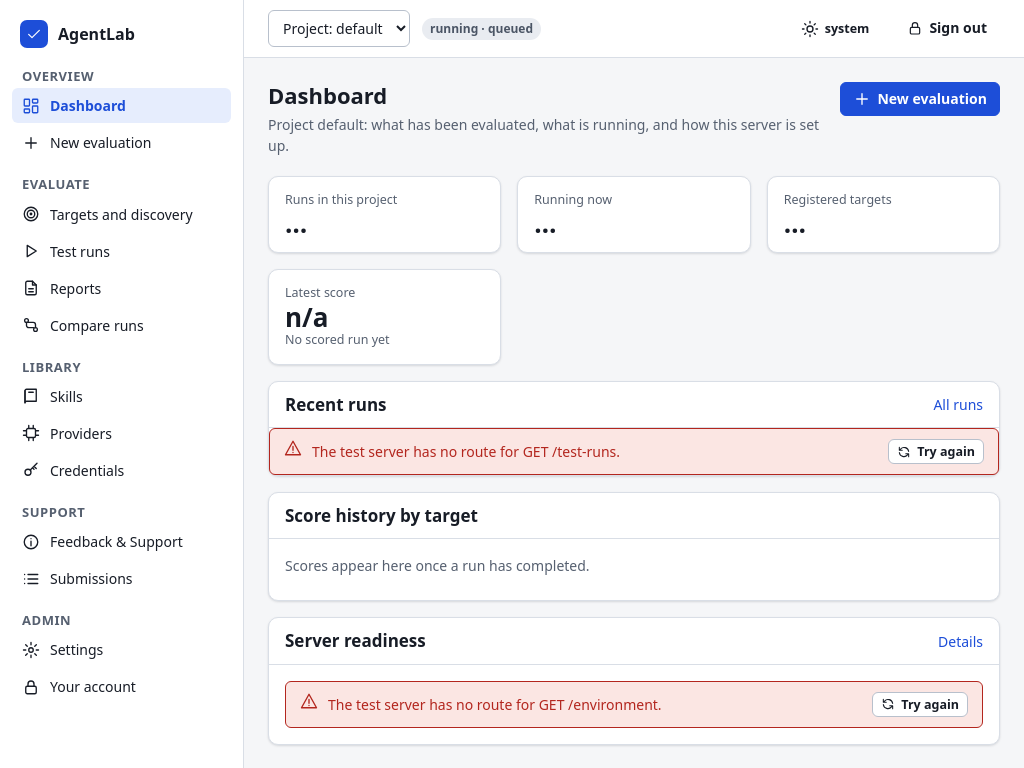
Test case: signing in with a user name and password › ends the session on the server when the person signs out
Step 1. Click the button "Sign out" → (947, 28), box [894, 12, 1000, 45]
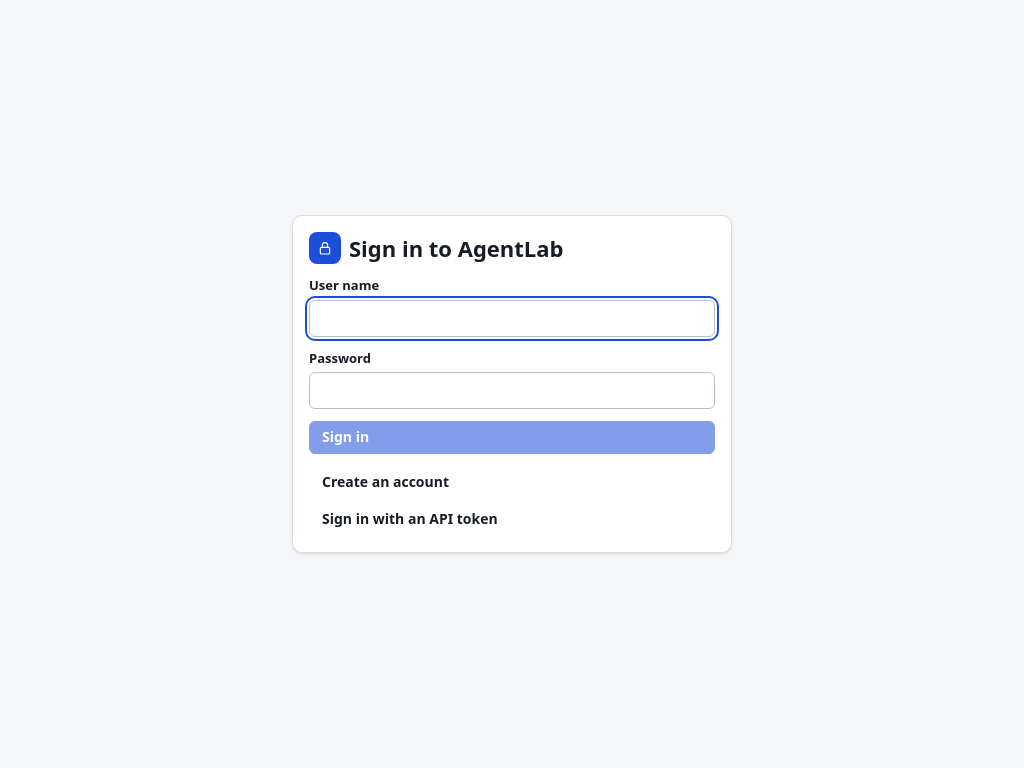
Expected: the field labelled "User name" is shown, [309, 300, 715, 337]
